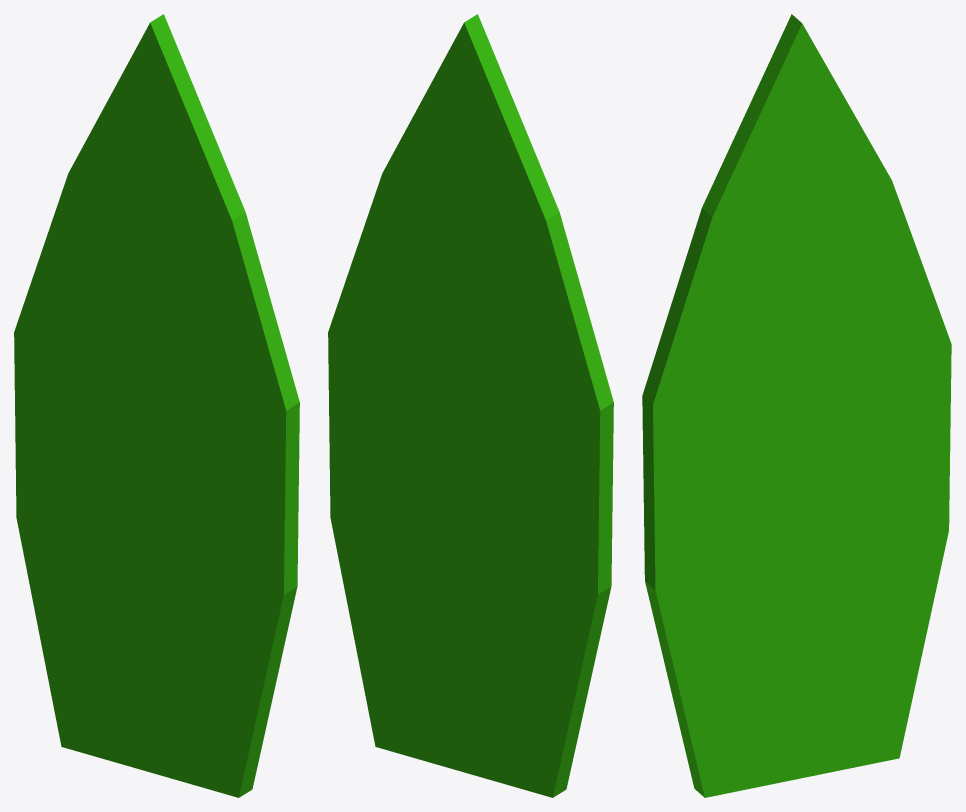
File: Rigged Grass Export 91.fbx
3 renders of one model, left to right at view 1: azimuth 30°, elevation 25°; view 2: azimuth 210°, elevation 25°; view 3: azimuth 270°, elevation 25°, orthographic.
Parts seen in each view (by area): view 1: Grass 4 Right Right 5; view 2: Grass 4 Right Right 5; view 3: Grass 4 Right Right 5.
Part boxes in pixels (x1,y1,x2,y2): Grass 4 Right Right 5: [14, 14, 299, 797]; Grass 4 Right Right 5: [328, 14, 613, 797]; Grass 4 Right Right 5: [642, 14, 951, 797].
Bounding box in the file's own units: 65.97 × 331 × 123.
